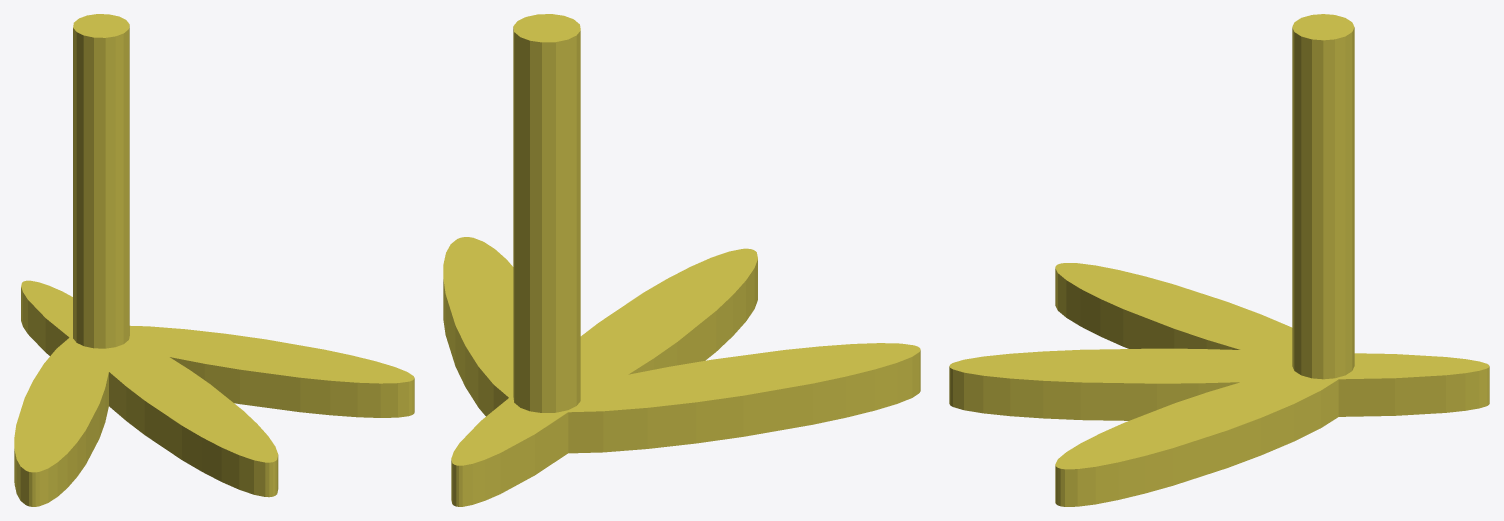
The model's file is Funky Blorr (1).glb.
The picture shows the model from 3 angles, left to right: view 1: azimuth 30°, elevation 25°; view 2: azimuth 150°, elevation 25°; view 3: azimuth 270°, elevation 25°; orthographic projection. The views are drawn at different scales.
Parts seen in each view (by area): view 1: Mesh_Mesh_head_geo.001_lambert2SG.001; view 2: Mesh_Mesh_head_geo.001_lambert2SG.001; view 3: Mesh_Mesh_head_geo.001_lambert2SG.001.
Boxes of the visible parts, bbox=[...] form: Mesh_Mesh_head_geo.001_lambert2SG.001: bbox=[14, 14, 414, 506]; Mesh_Mesh_head_geo.001_lambert2SG.001: bbox=[443, 14, 920, 506]; Mesh_Mesh_head_geo.001_lambert2SG.001: bbox=[949, 14, 1489, 506].
Bounding box in the file's own units: 0.0235 × 0.02 × 0.026.
